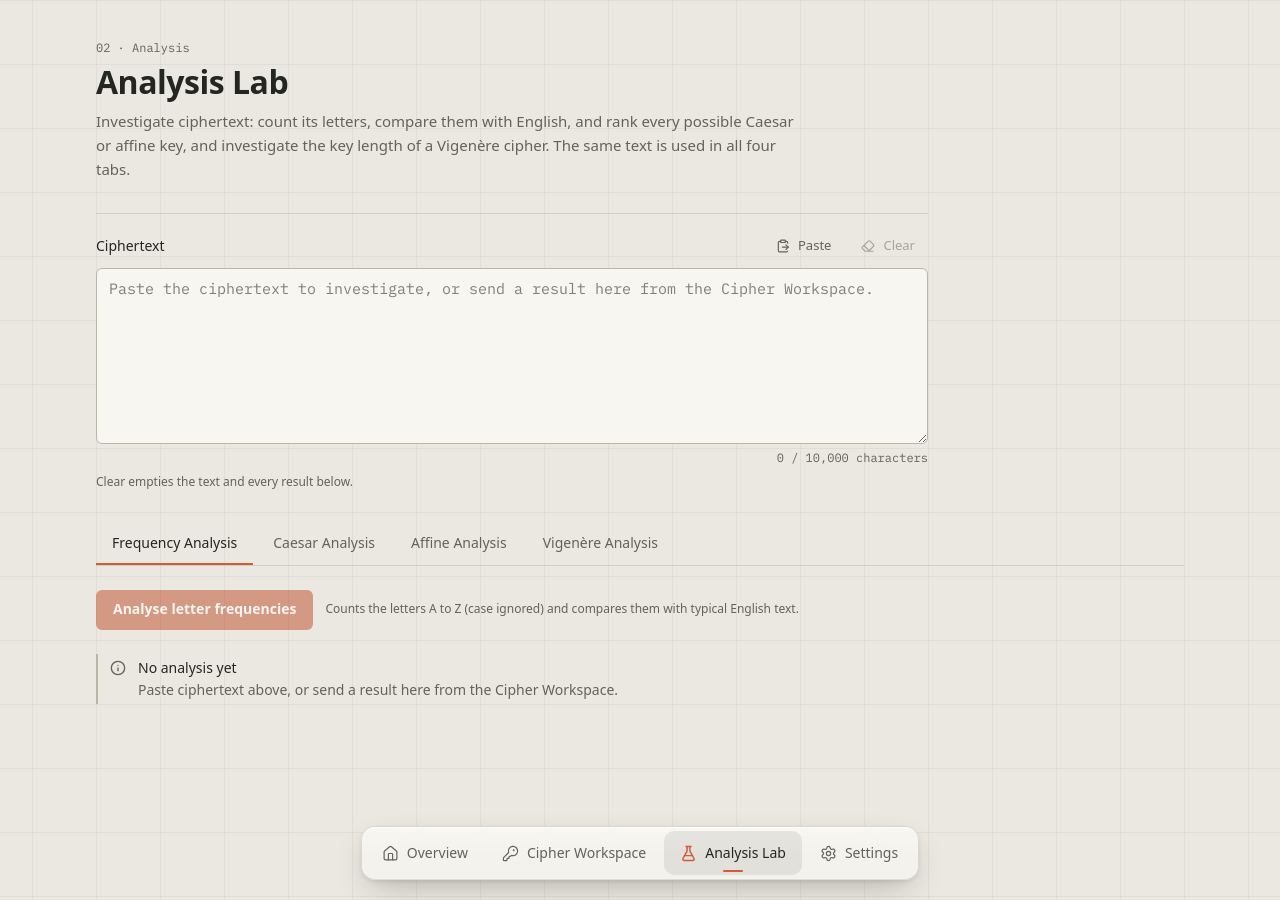
investigating the key length › labels each section as measured, calculated or a suggestion
The image size is (1280, 900).
Click the tab "Vigenère Analysis" at (600, 544), box x1=527 y1=523 x2=674 y2=565
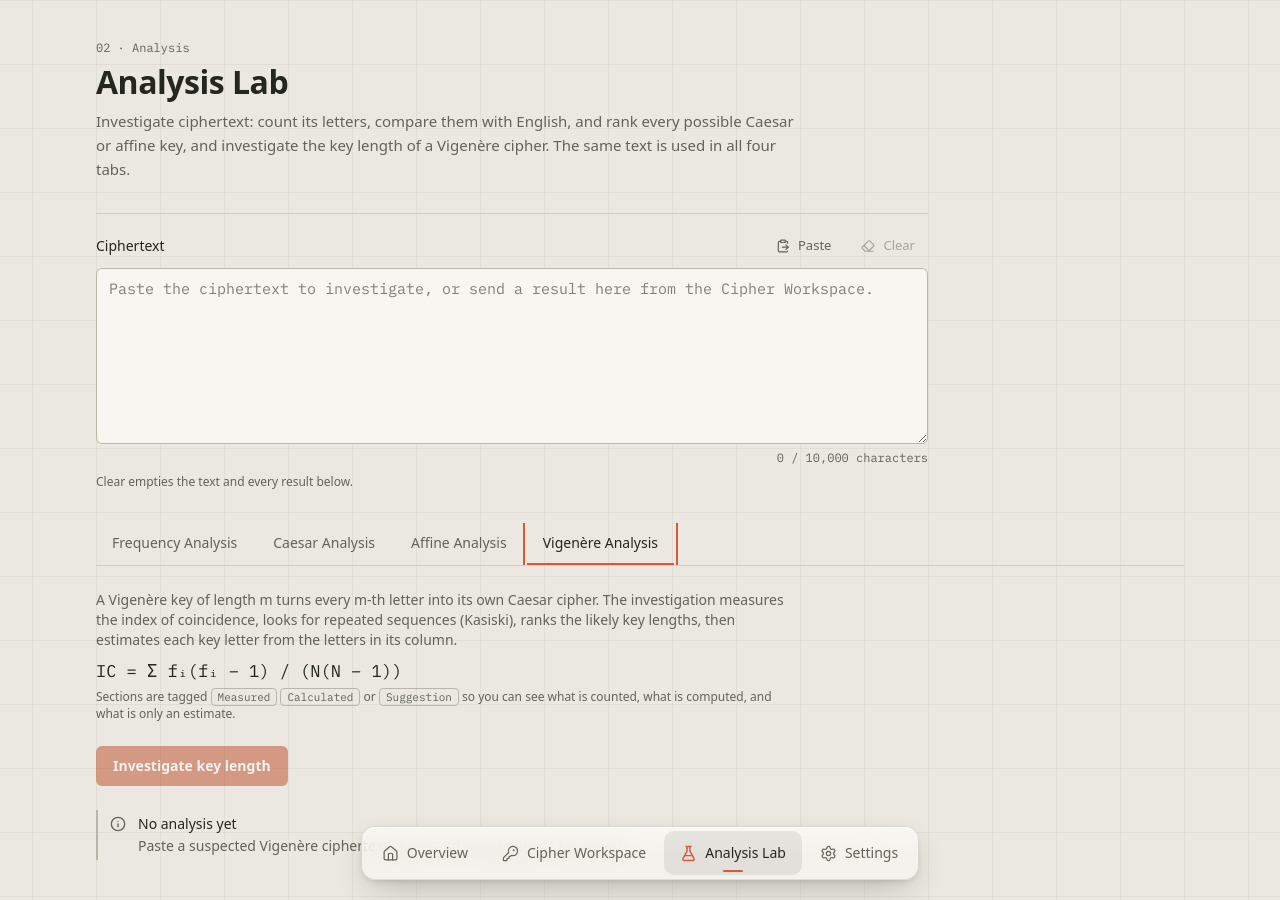
Clear the text box labelled "Ciphertext" at (512, 356), box x1=96 y1=268 x2=928 y2=444
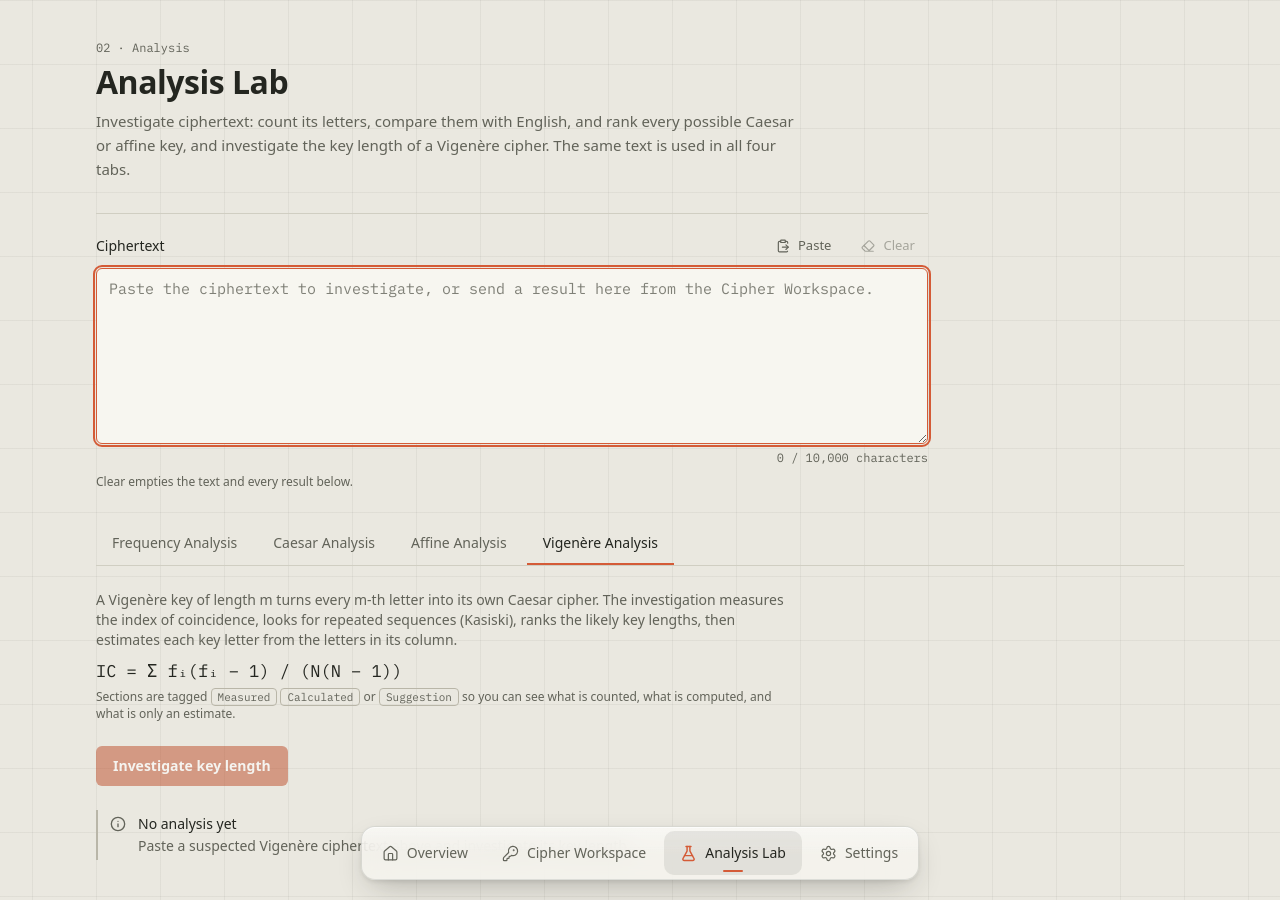
Type keys "Lxfopv ef Rnhr lxfopv ef rnhr"
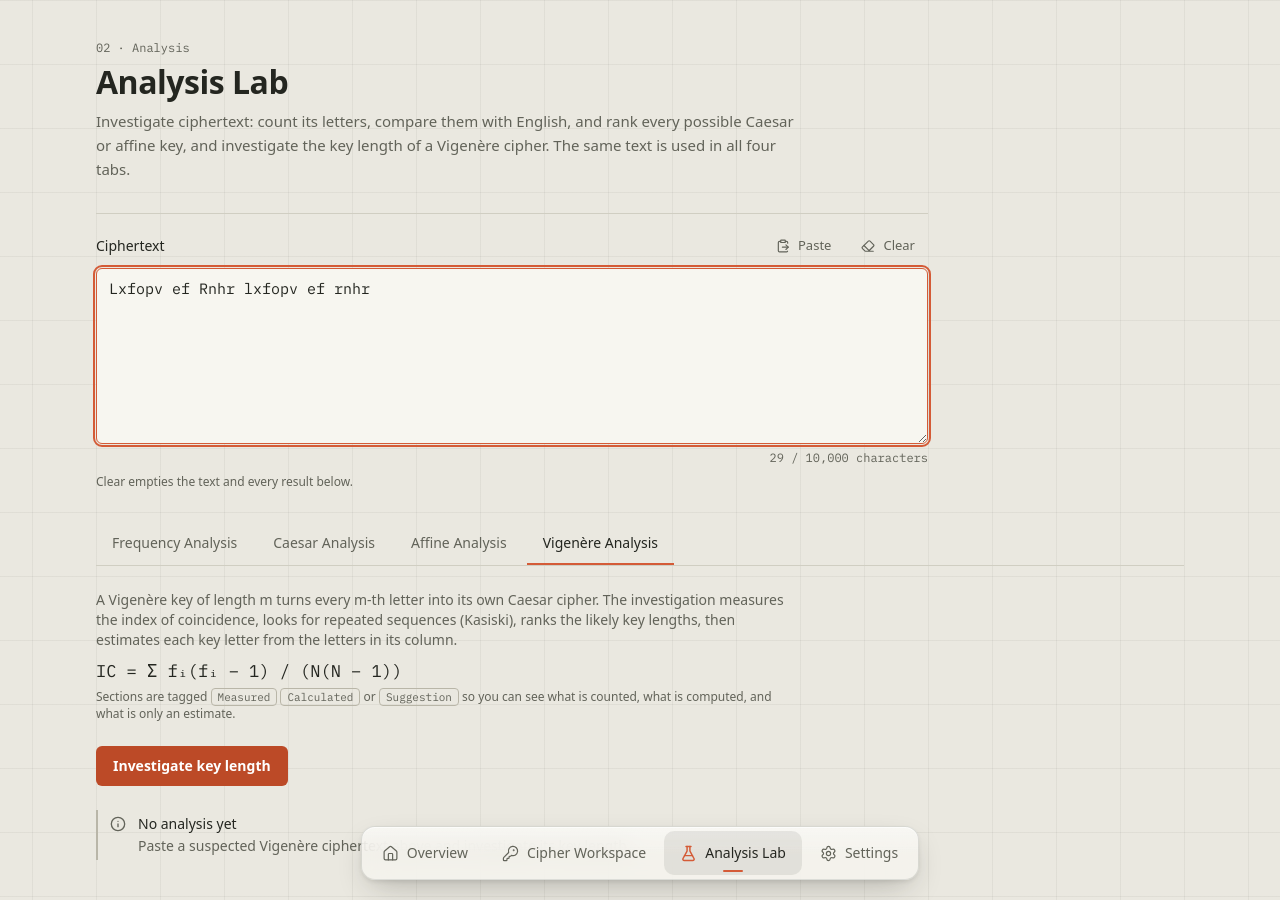
Click the button "Investigate key length" at (192, 766), box x1=96 y1=746 x2=288 y2=786
(page scrolled)
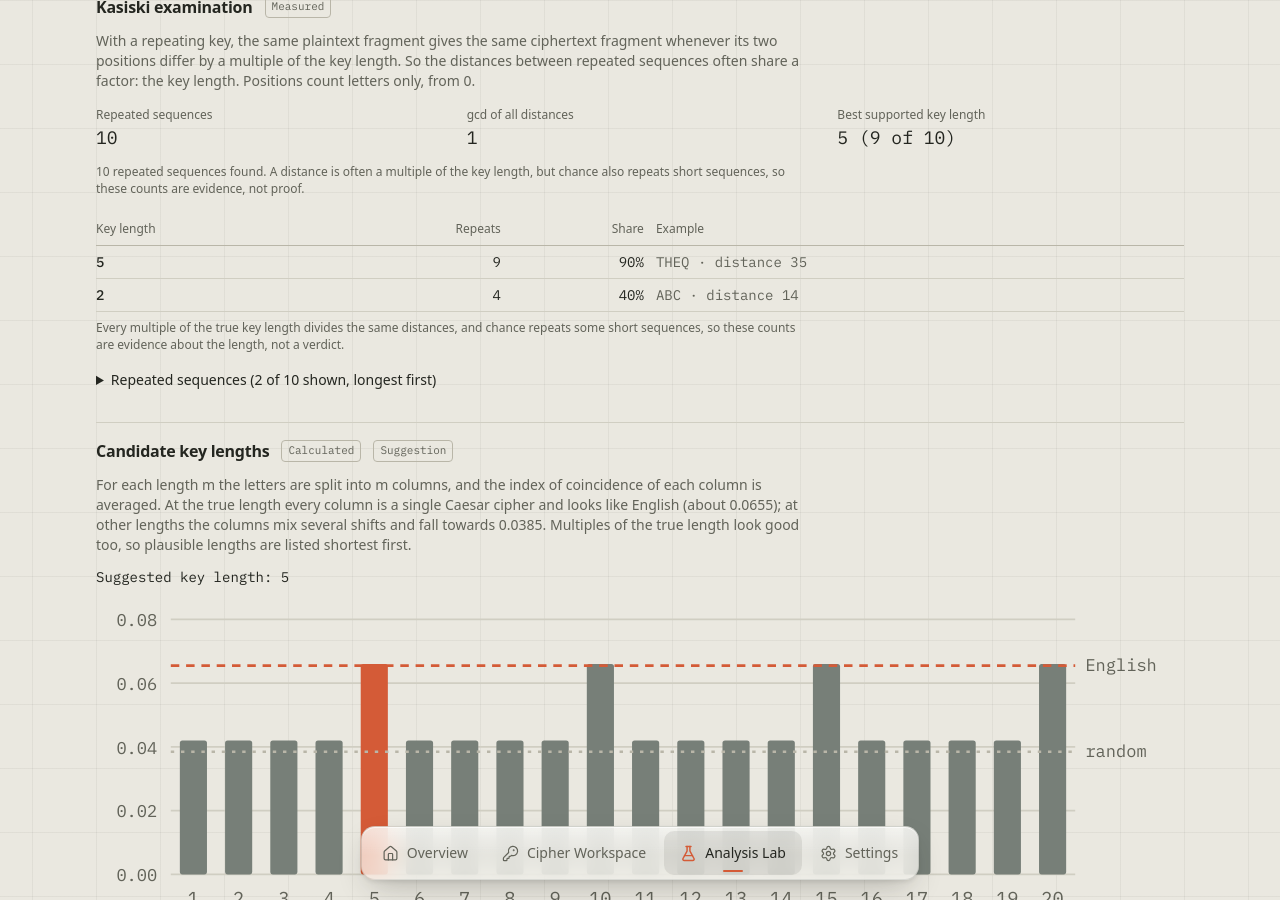
Now the text "Suggested key length: 5" is shown, box x1=96 y1=568 x2=289 y2=586
Now the text "Suggestion" is shown, box x1=373 y1=440 x2=453 y2=462
